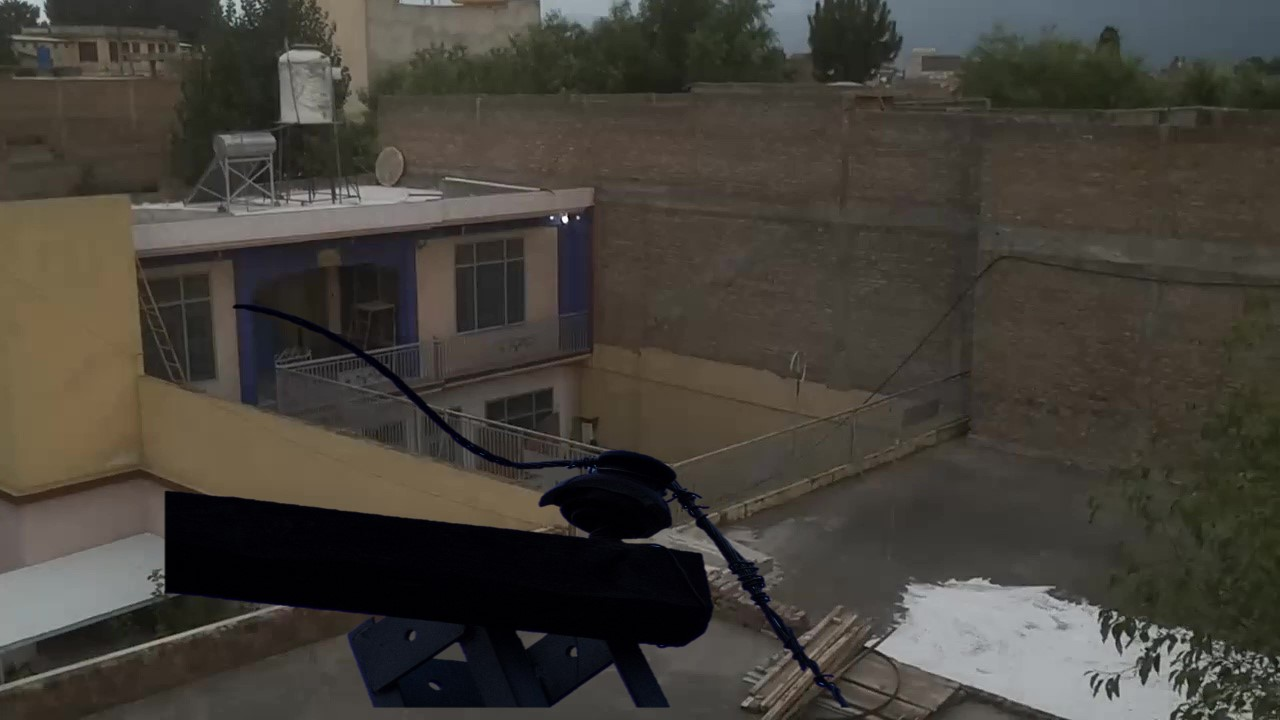defect_pin: (537, 443, 687, 540)
